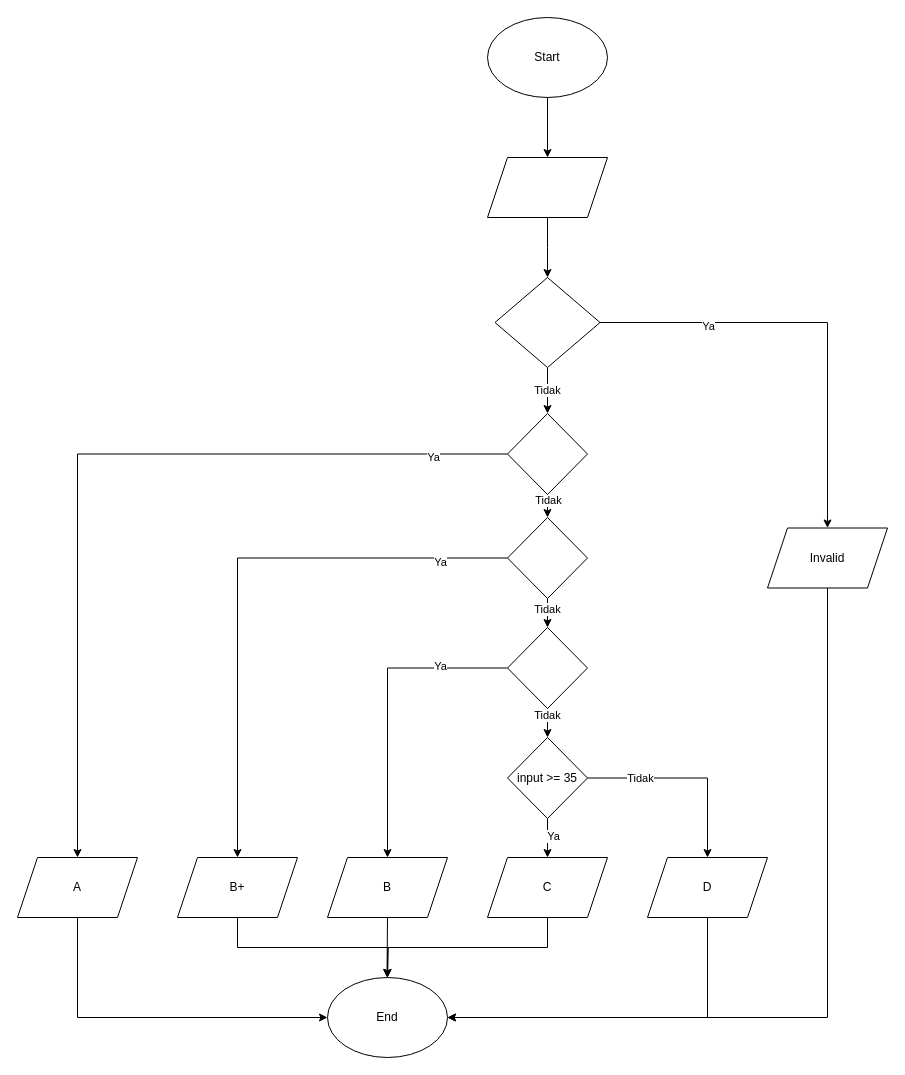
This 905x1075 diagram has some shape labels left out. The box of each missing label's shape, as (x1, y1, x2, y2) in pixels:
Input: (486, 156, 608, 218)
input > 100 Atau input < 0: (494, 276, 600, 368)
input >= 50: (506, 626, 588, 708)
input >= 65: (506, 516, 588, 598)
input >= 80: (506, 412, 588, 494)
